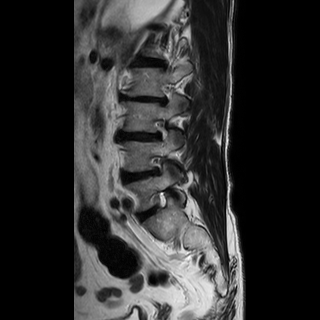LFS0: (146, 112, 177, 146)
LFS1: (144, 152, 173, 181)
